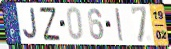0: (66, 6, 84, 42)
6: (87, 8, 106, 42)
7: (130, 6, 149, 45)
I: (114, 7, 125, 43)
J: (22, 7, 39, 41)
Z: (38, 7, 62, 42)
